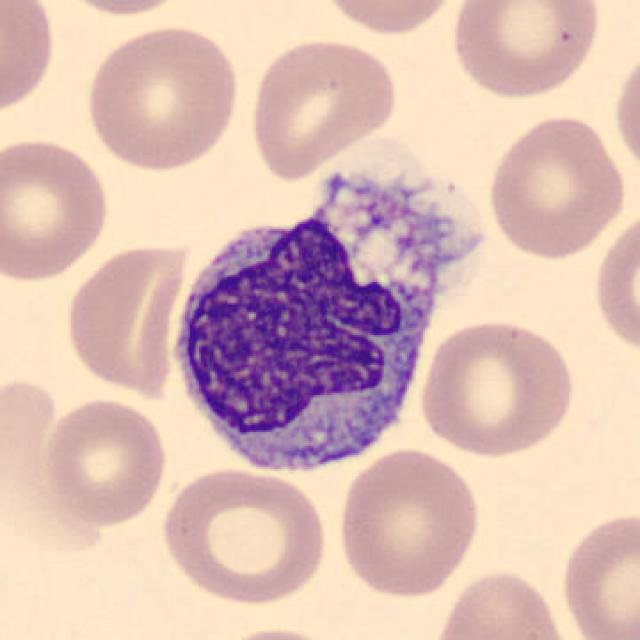Monocyte: (158, 168, 460, 490)
RBC: (82, 19, 244, 174), (157, 464, 330, 608), (416, 316, 580, 460), (334, 444, 484, 600), (245, 34, 402, 182), (484, 109, 630, 261), (61, 238, 190, 404), (41, 393, 171, 529), (0, 134, 114, 286), (446, 0, 604, 102), (555, 506, 638, 640), (428, 566, 578, 640), (590, 203, 640, 361), (0, 0, 59, 122), (313, 0, 462, 39), (610, 42, 640, 180), (44, 0, 200, 19)
